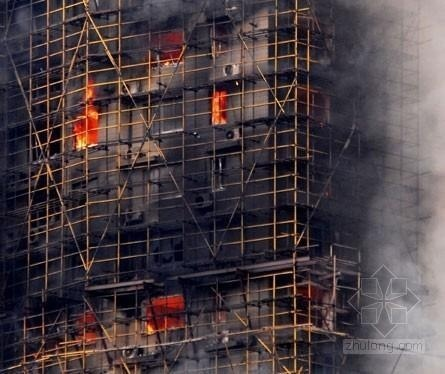fire: (71, 84, 100, 151), (210, 89, 228, 123)
